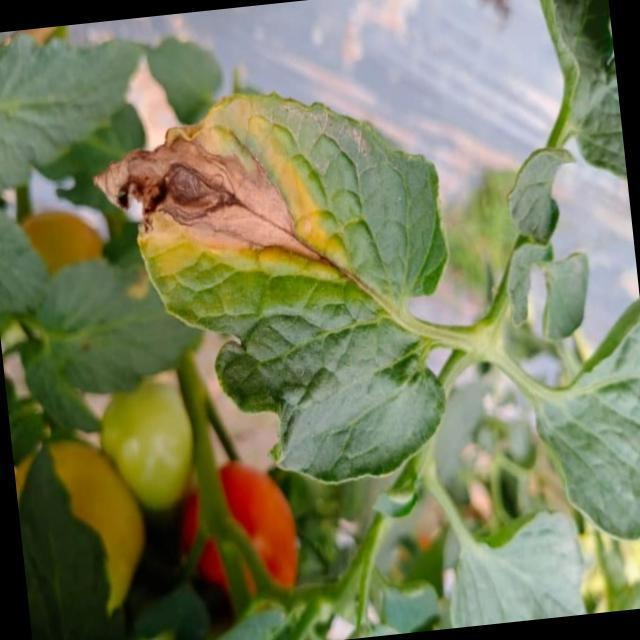Healthy Leaf: (216, 318, 460, 491)
